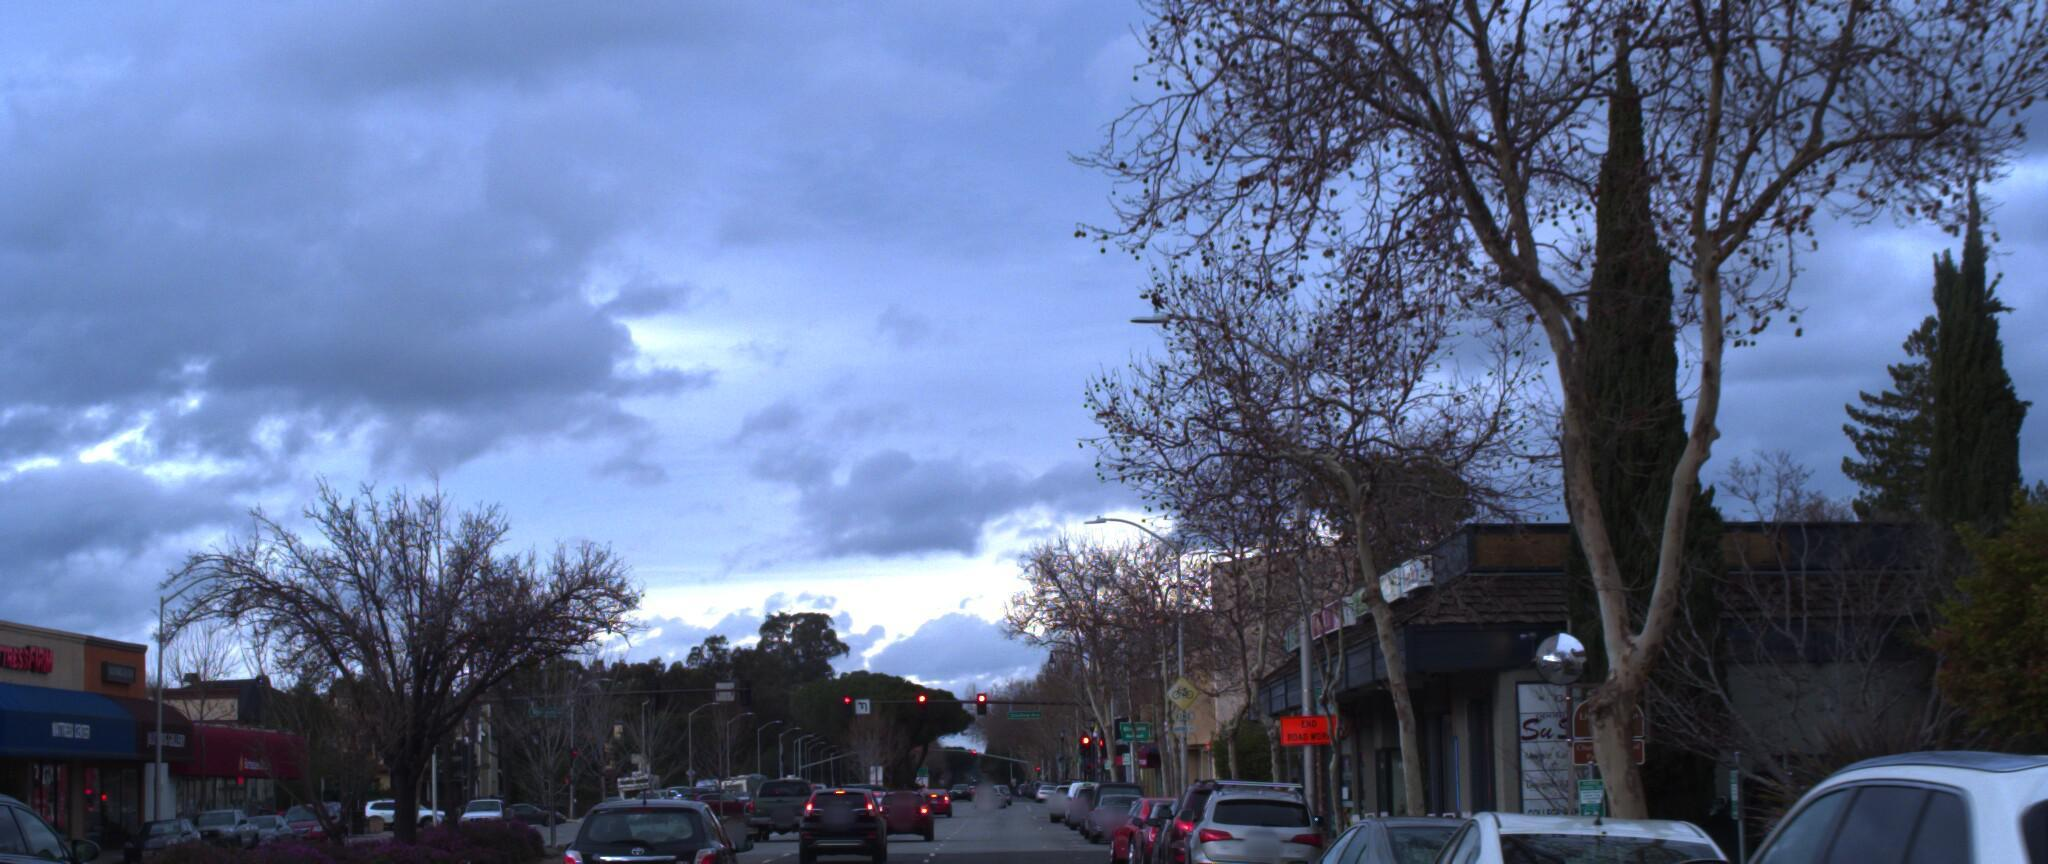car: (1586, 724, 2048, 864), (1369, 801, 1829, 864), (1255, 803, 1627, 864), (549, 794, 764, 864), (1169, 771, 1324, 864), (0, 780, 146, 864), (1152, 773, 1285, 864), (781, 775, 875, 856)
